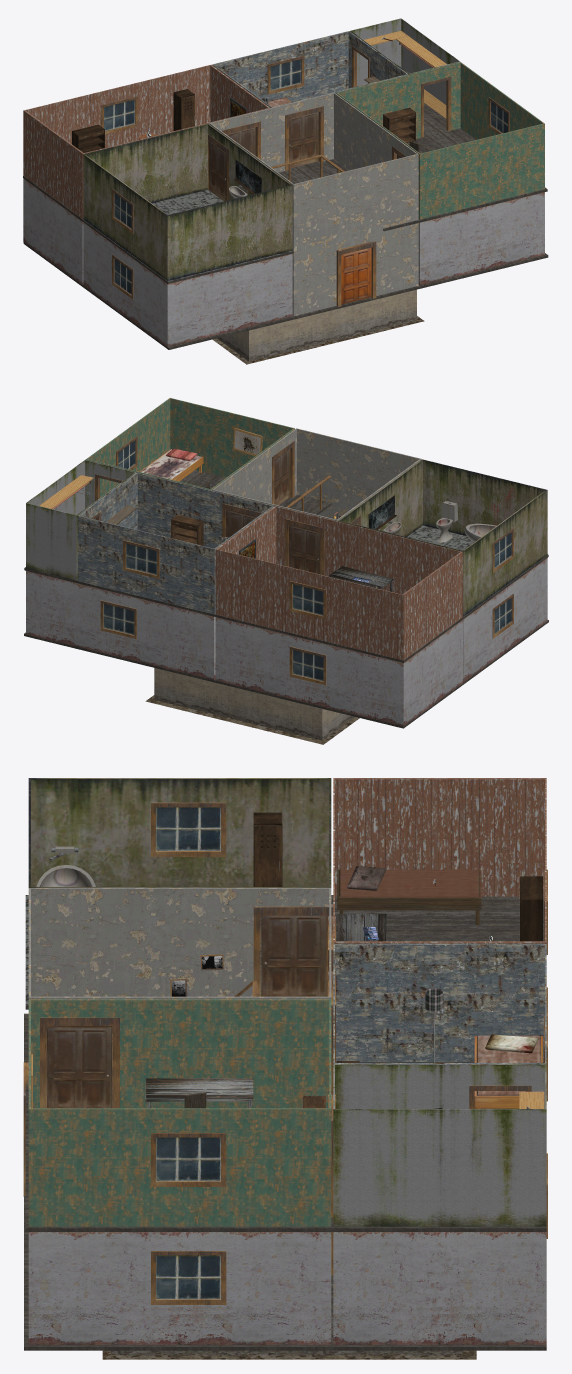
File: grannys_house_-_v1.0.glb
3 renders of one model, top to bottom at view 1: azimuth 30°, elevation 25°; view 2: azimuth 150°, elevation 25°; view 3: azimuth 270°, elevation 25°, orthographic. The views are drawn at different scales.
Visible parts, largest first — view 1: House_124_94, Golv_123_92, FurnitureSovrum1_168_148, FurnitureBedroom2_217_183, exitdoor_503_357, Innerdoor_468_338, Innerdoor_466_335, Innerdoor_462_329, GarderobDoor_474_347; view 2: House_124_94, Golv_123_92, FurnitureSovrum1_168_148, FurnitureBedroom2_217_183, Innerdoor_462_329, Innerdoor_464_332, TavlaSR1_95_63, Innerdoor_468_338; view 3: House_124_94, Golv_123_92, FurnitureBedroom2_217_183, FurnitureSovrum1_168_148, Innerdoor_466_335, Innerdoor_464_332, GarderobDoor_476_350.
Boxes of the visible parts, box(x1,y1,x2,y2) form: House_124_94: box(23, 18, 544, 361); Golv_123_92: box(23, 103, 548, 364); FurnitureSovrum1_168_148: box(268, 31, 446, 143); FurnitureBedroom2_217_183: box(72, 89, 261, 198); exitdoor_503_357: box(341, 247, 371, 304); Innerdoor_468_338: box(289, 112, 318, 167); Innerdoor_466_335: box(209, 140, 226, 201); Innerdoor_462_329: box(226, 127, 255, 155); GarderobDoor_474_347: box(181, 95, 194, 128); House_124_94: box(26, 398, 547, 740); Golv_123_92: box(24, 470, 548, 744); FurnitureSovrum1_168_148: box(39, 448, 203, 545); FurnitureBedroom2_217_183: box(328, 495, 496, 591); Innerdoor_462_329: box(289, 524, 320, 574); Innerdoor_464_332: box(274, 449, 289, 505); TavlaSR1_95_63: box(233, 427, 262, 456); Innerdoor_468_338: box(226, 509, 256, 537); House_124_94: box(23, 778, 547, 1355); Golv_123_92: box(24, 895, 546, 1359); FurnitureBedroom2_217_183: box(36, 812, 542, 941); FurnitureSovrum1_168_148: box(145, 1034, 544, 1108); Innerdoor_466_335: box(261, 915, 326, 996); Innerdoor_464_332: box(47, 1026, 111, 1108); GarderobDoor_476_350: box(254, 825, 281, 886).
Size of what is drawn, in the model's own units: 42.28 by 19.44 by 28.21.
Materials: 67 (67 with a texture image).
